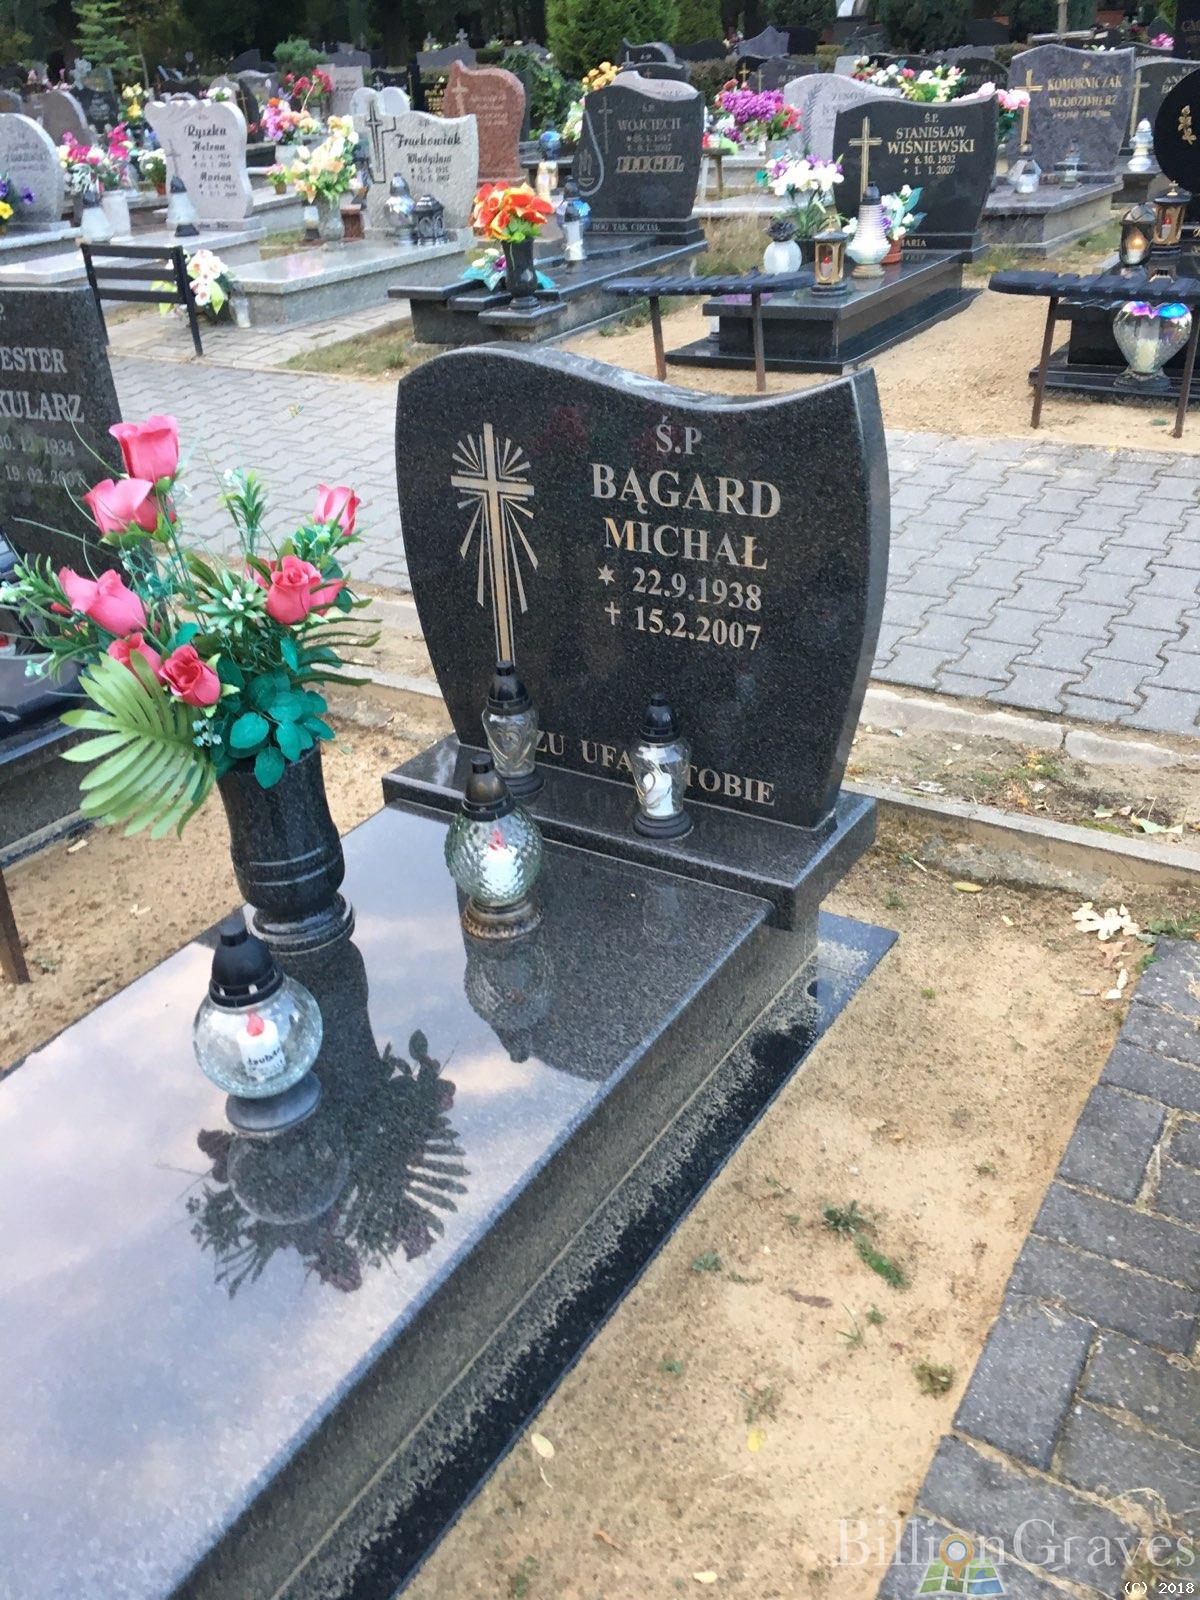upright: (328, 314, 942, 983)
